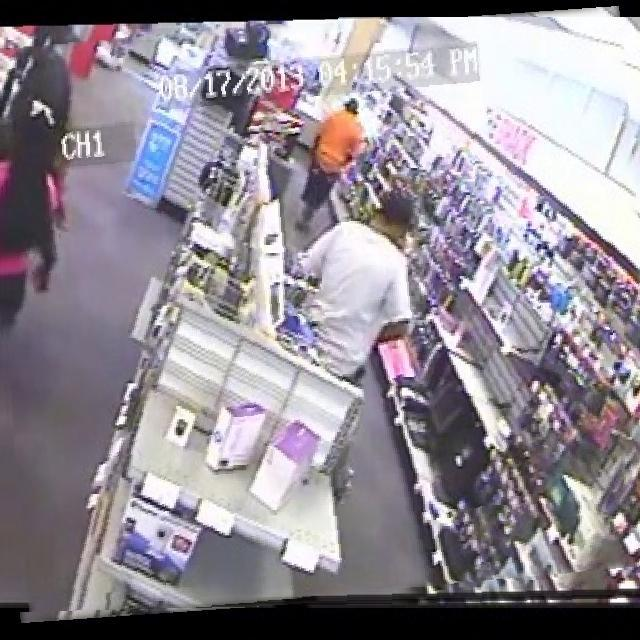Normal: (0, 17, 640, 612)
